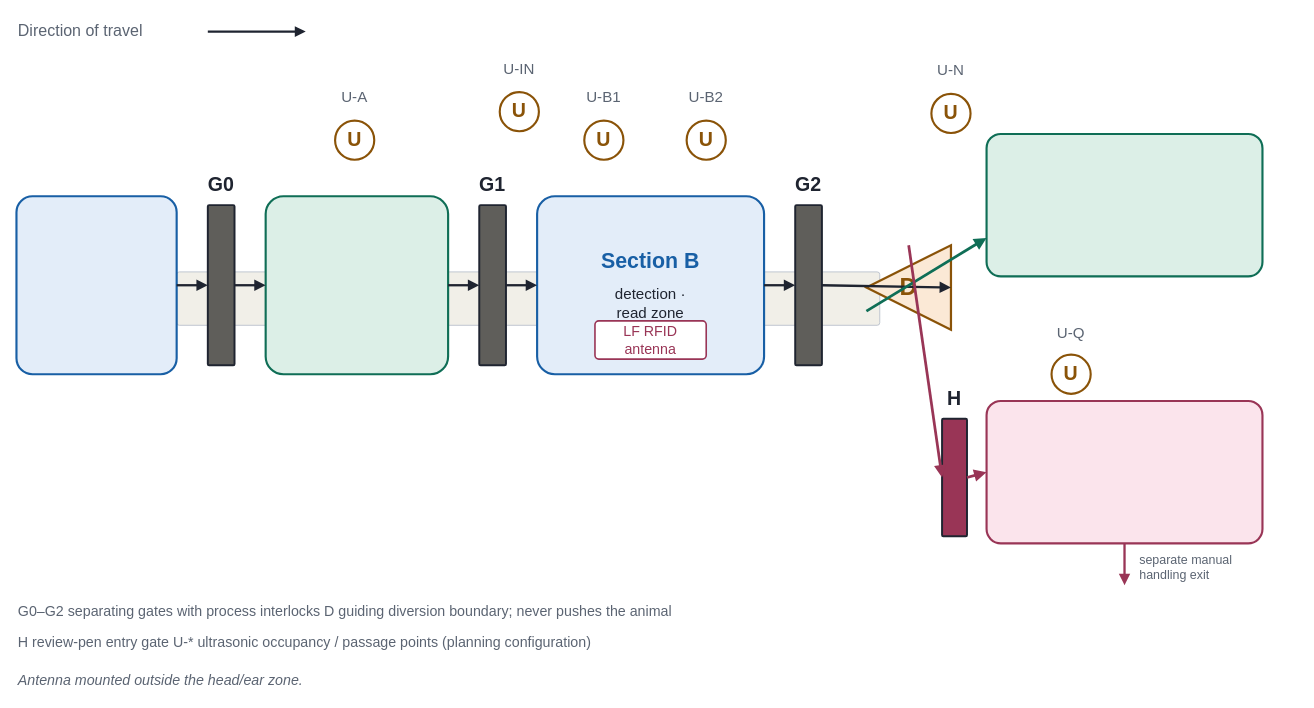
Image size: 1314x708. Some labels were removed from this diagram. The shapes that lost their labels are listed below. From the top down, each one's centre as x and y in pixels, then its label:
(1124,204): Normal return channel
(96,285): Cattle holding area
(356,285): Section A single-animal buffer machine-verified
(1124,471): Exception branch review pen
